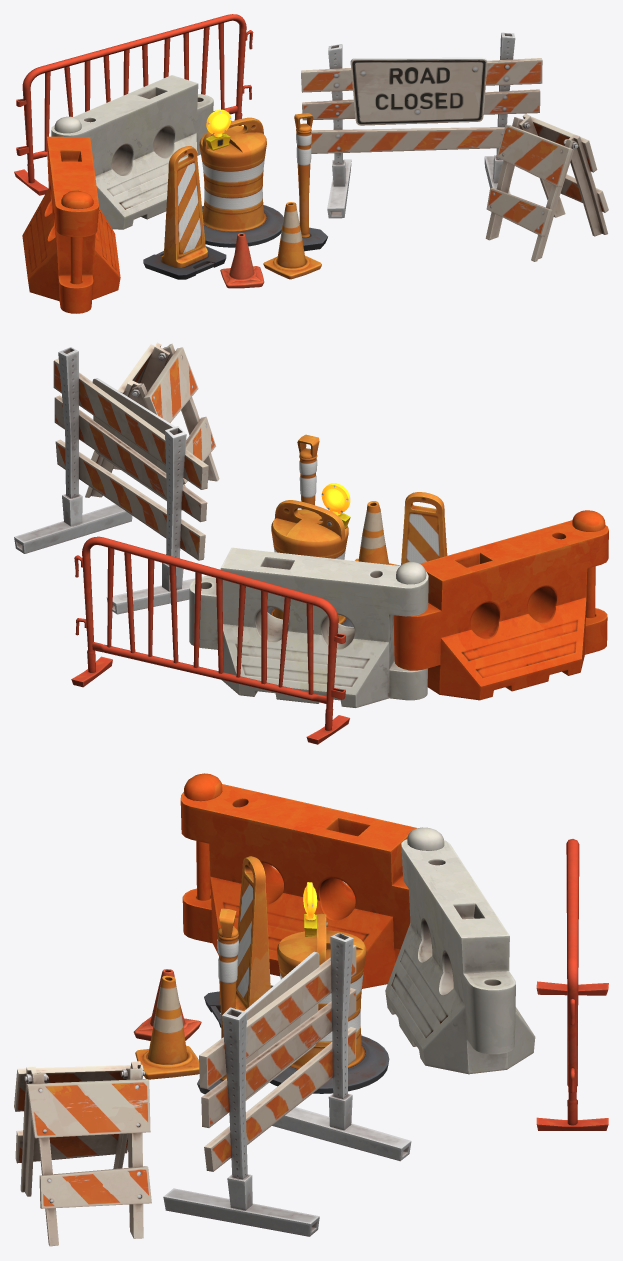
File: stylized-traffic-props-and-barricades-low-poly.glb
3 views of the same model, one above another, from view 1: azimuth 30°, elevation 25°; view 2: azimuth 150°, elevation 25°; view 3: azimuth 270°, elevation 25° (orthographic). The views are drawn at different scales.
Visible parts, largest first — view 1: SM_BarricadeA, SM_TrafficBarrierB, SM_BarricadeB_BarricadeB_0, SM_TrafficBarrierA_TrafficBarrier_0, SM_TrafficBarrierBSign, SM_TrafficDrum_TrafficAssets_0, SM_TrafficBarrierC_TrafficBarrier_0, SM_Verticade, SM_TrafficConeA, SM_DelineatorPole, SM_TrafficConeB, SM_Light_Light_0; view 2: SM_BarricadeB_BarricadeB_0, SM_BarricadeA, SM_TrafficBarrierB, SM_TrafficBarrierC_TrafficBarrier_0, SM_TrafficBarrierA_TrafficBarrier_0, SM_TrafficDrum_TrafficAssets_0, SM_Verticade, SM_TrafficBarrierBSign, SM_TrafficConeA, SM_DelineatorPole, SM_Light_Light_0; view 3: SM_BarricadeB_BarricadeB_0, SM_TrafficBarrierB, SM_BarricadeA, SM_TrafficBarrierA_TrafficBarrier_0, SM_TrafficDrum_TrafficAssets_0, SM_TrafficBarrierC_TrafficBarrier_0, SM_Verticade, SM_TrafficConeA, SM_DelineatorPole, SM_TrafficBarrierBSign, SM_TrafficConeB.
Part boxes in pixels (left/top/right/bottom): SM_BarricadeA: left=51, top=75, right=213, bottom=229; SM_TrafficBarrierB: left=301, top=32, right=542, bottom=218; SM_BarricadeB_BarricadeB_0: left=22, top=136, right=120, bottom=313; SM_TrafficBarrierA_TrafficBarrier_0: left=485, top=113, right=608, bottom=261; SM_TrafficBarrierBSign: left=350, top=57, right=487, bottom=125; SM_TrafficDrum_TrafficAssets_0: left=199, top=117, right=283, bottom=247; SM_TrafficBarrierC_TrafficBarrier_0: left=14, top=14, right=253, bottom=195; SM_Verticade: left=143, top=146, right=226, bottom=279; SM_TrafficConeA: left=263, top=202, right=321, bottom=279; SM_DelineatorPole: left=294, top=113, right=327, bottom=251; SM_TrafficConeB: left=220, top=233, right=264, bottom=288; SM_Light_Light_0: left=206, top=109, right=231, bottom=137; SM_BarricadeB_BarricadeB_0: left=393, top=510, right=608, bottom=700; SM_BarricadeA: left=189, top=547, right=428, bottom=707; SM_TrafficBarrierB: left=14, top=347, right=209, bottom=614; SM_TrafficBarrierC_TrafficBarrier_0: left=71, top=536, right=349, bottom=744; SM_TrafficBarrierA_TrafficBarrier_0: left=85, top=342, right=219, bottom=510; SM_TrafficDrum_TrafficAssets_0: left=267, top=500, right=353, bottom=626; SM_Verticade: left=401, top=492, right=447, bottom=564; SM_TrafficBarrierBSign: left=92, top=378, right=175, bottom=500; SM_TrafficConeA: left=355, top=501, right=400, bottom=565; SM_DelineatorPole: left=297, top=434, right=319, bottom=509; SM_Light_Light_0: left=321, top=483, right=350, bottom=515; SM_BarricadeB_BarricadeB_0: left=180, top=773, right=416, bottom=988; SM_TrafficBarrierB: left=163, top=933, right=411, bottom=1236; SM_BarricadeA: left=385, top=827, right=535, bottom=1074; SM_TrafficBarrierA_TrafficBarrier_0: left=14, top=1061, right=151, bottom=1246; SM_TrafficDrum_TrafficAssets_0: left=269, top=913, right=389, bottom=1093; SM_TrafficBarrierC_TrafficBarrier_0: left=536, top=839, right=608, bottom=1130; SM_Verticade: left=204, top=856, right=272, bottom=1027; SM_TrafficConeA: left=135, top=975, right=199, bottom=1079; SM_DelineatorPole: left=197, top=908, right=238, bottom=1094; SM_TrafficBarrierBSign: left=244, top=951, right=319, bottom=1100; SM_TrafficConeB: left=133, top=969, right=201, bottom=1040.
Bounding box in the file's own units: 4.73 × 1.44 × 3.63.
5 materials, 5 textured.
